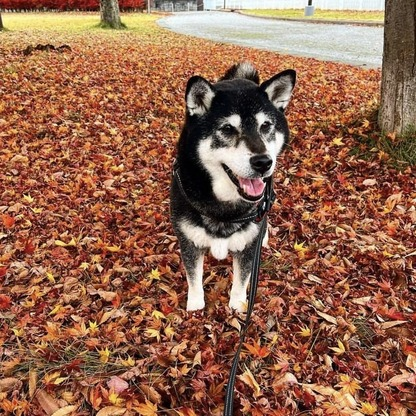shiba: (162, 55, 301, 316)
